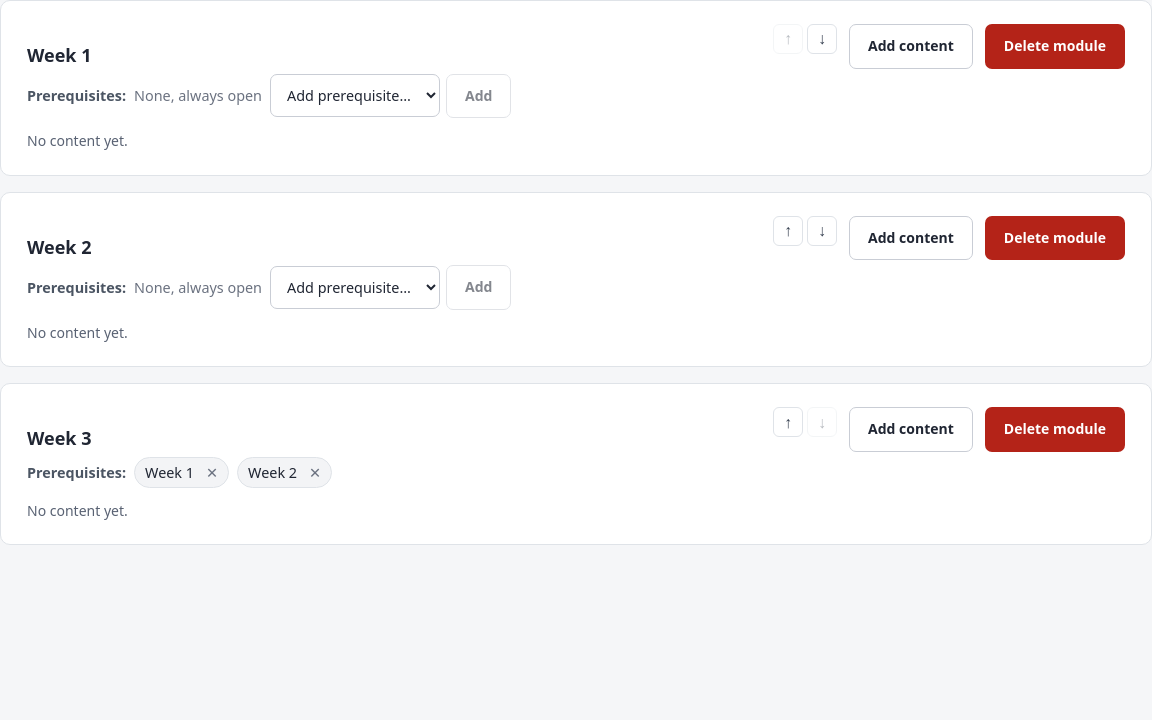
Test: ModuleList › explains why a module cannot move above its prerequisite, without reloading
This screenshot has width=1152, height=720.
Click the button named "Move Week 3 up" at {"x": 788, "y": 422}, box top-left (773, 407), bottom-right (803, 437)
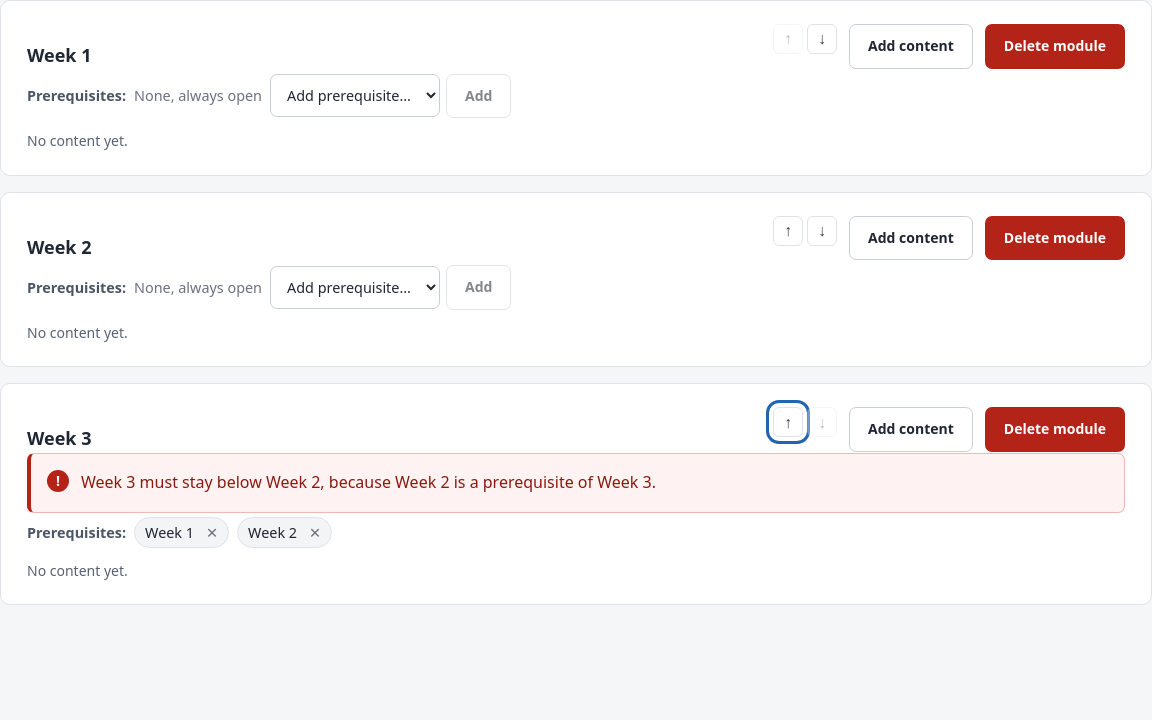
Expected: the text "Week 3 must stay below Week 2, because Week 2 is a prerequisite of Week 3." is shown, top-left (81, 470), bottom-right (656, 496)
